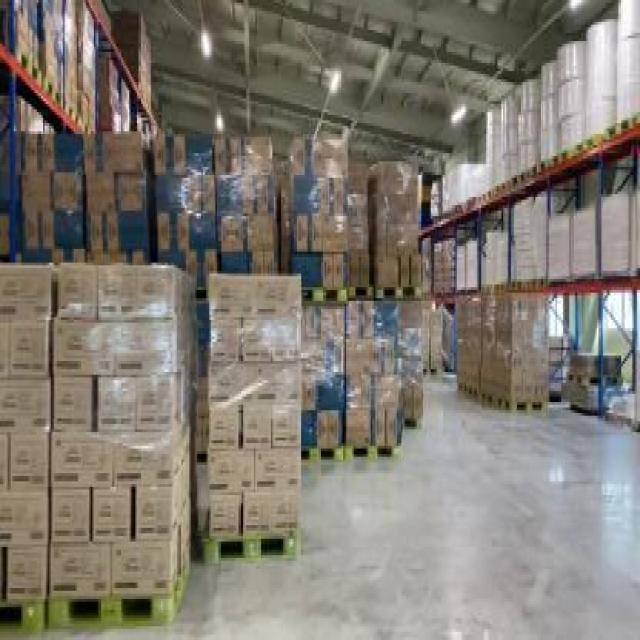box: (1, 254, 188, 632), (286, 134, 426, 462), (22, 123, 289, 282), (203, 273, 303, 558), (451, 290, 549, 413), (18, 2, 96, 140), (114, 9, 158, 110), (558, 353, 620, 418), (431, 238, 454, 293)
white_roll: (509, 194, 637, 279), (555, 24, 614, 140), (520, 60, 560, 164), (484, 93, 518, 189), (612, 0, 637, 126), (456, 232, 510, 282), (429, 156, 486, 200)
